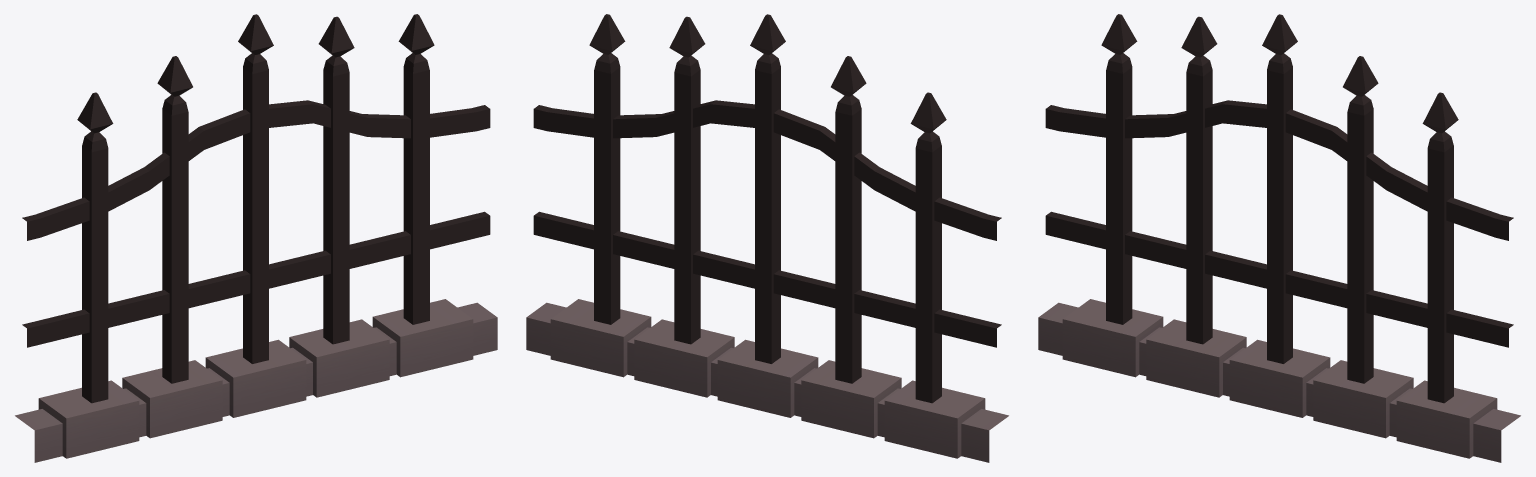
Rendered from fenceASection1.glb.
3 renders of one model, left to right at view 1: azimuth 30°, elevation 25°; view 2: azimuth 150°, elevation 25°; view 3: azimuth 330°, elevation 25°, orthographic.
Parts seen in each view (by area): view 1: fenceASection1; view 2: fenceASection1; view 3: fenceASection1.
Boxes of the visible parts, x1,y1,x2,y2 form: fenceASection1: [15, 14, 497, 462]; fenceASection1: [526, 14, 1008, 462]; fenceASection1: [1038, 14, 1520, 462].
Size of the model in its own units: 2.71 by 2.15 by 0.2802.
1 material, 1 textured.
